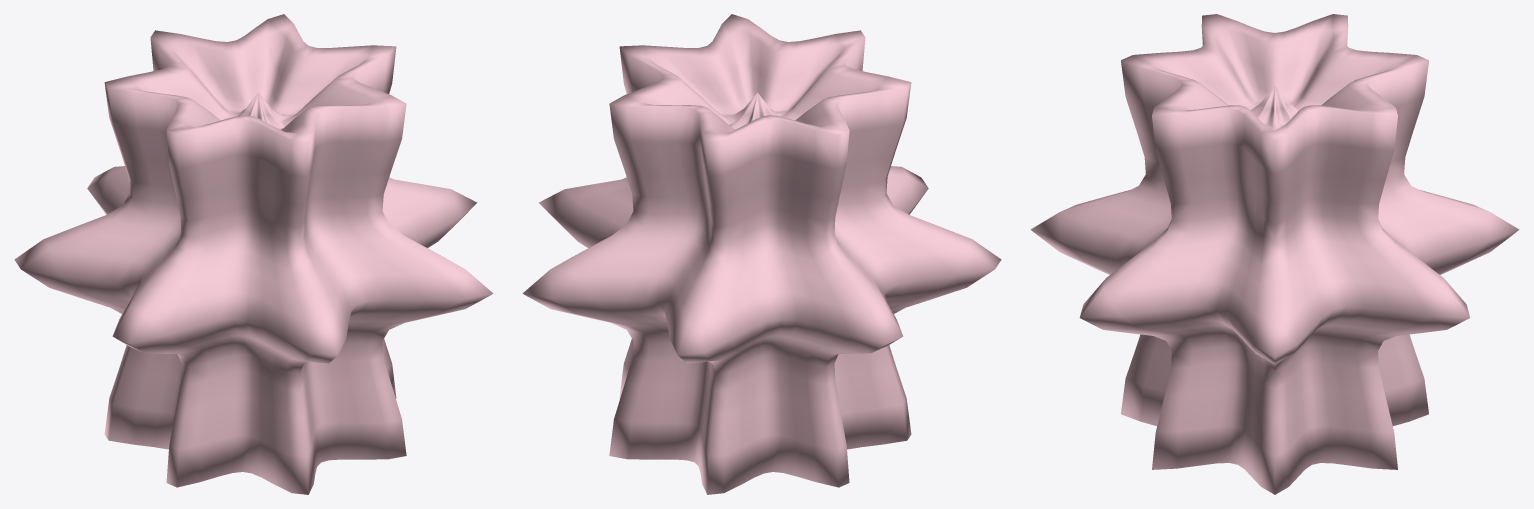
File: example.gltf
The picture shows the model from 3 angles, left to right: view 1: azimuth 30°, elevation 25°; view 2: azimuth 150°, elevation 25°; view 3: azimuth 270°, elevation 25°; orthographic projection.
Visible parts, largest first — view 1: supershape; view 2: supershape; view 3: supershape.
Boxes of the visible parts, bbox=[...] form: supershape: bbox=[14, 14, 493, 494]; supershape: bbox=[522, 14, 1001, 494]; supershape: bbox=[1030, 14, 1519, 494].
Bounding box in the file's own units: 1.87 × 1.54 × 1.92.
